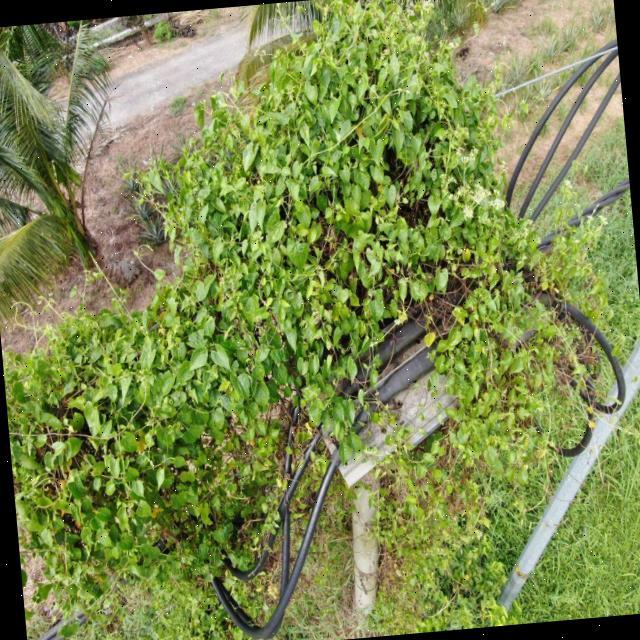critical vegetation: (5, 0, 562, 588)
